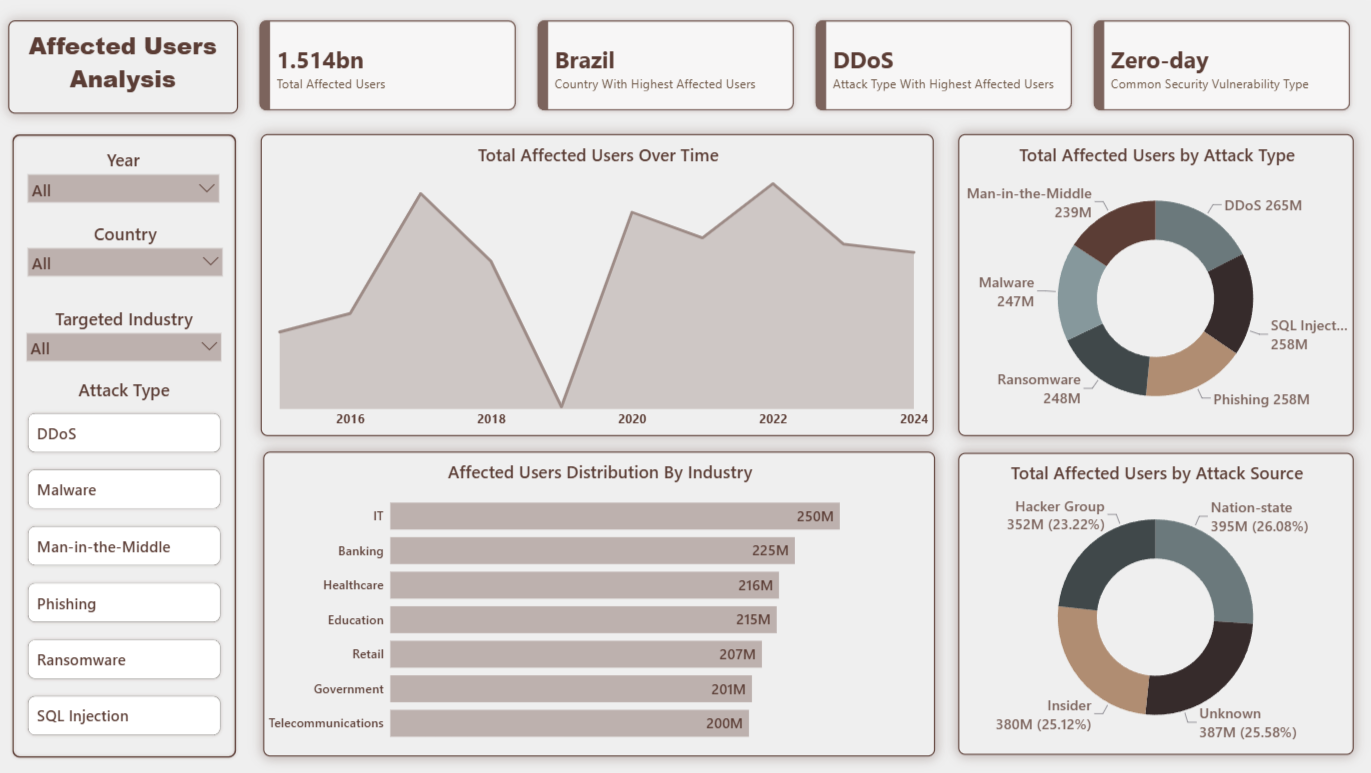

What the dashboard file says about the page in this screenshot:
{"tool":"powerbi","page":{"name":"Affected Users Analysis","canvas":[1920,1080],"ordinal":1},"visuals":[{"type":"cardVisual","fields":{"Data":["All Measures.Total Affected Users","All Measures.Country With Highest Affected Users","All Measures.Most Common Attack Type","All Measures.Common Security Vulnerability Type"]},"box":[338,0,1580.2,182.8],"z":0},{"type":"shape","box":[18.1,182.8,320.3,877.7],"z":0,"group":"g1"},{"type":"lineChart","title":"Total Affected Users Over Time","fields":{"Category":["Dataset.Year"],"Y":["All Measures.Total Affected Users"]},"box":[367.4,186.4,939.2,421.7],"z":1000},{"type":"slicer","title":"Year","fields":{"Values":["Dataset.Year"]},"box":[23.5,195.5,307.6,126.7],"z":1000,"group":"g1"},{"type":"slicer","title":"Country","fields":{"Values":["Dataset.Country"]},"box":[23.5,298.6,313.1,124.9],"z":2000,"group":"g1"},{"type":"barChart","title":"Affected Users Distribution By Industry","fields":{"Y":["All Measures.Total Affected Users"],"Category":["Dataset.Target Industry"]},"box":[371,629.8,937.4,425.3],"z":2000},{"type":"donutChart","fields":{"Category":["Dataset.Attack Type"],"Y":["All Measures.Total Affected Users"]},"box":[1341,186.4,551.9,421.7],"z":3000},{"type":"advancedSlicerVisual","title":"Attack Type","fields":{"Values":["Dataset.Attack Type"]},"box":[21.7,526.6,313.1,521.2],"z":3000,"group":"g1"},{"type":"group","id":"g1","title":"Group 1","box":[18.1,182.8,320.3,877.7],"z":4000},{"type":"slicer","title":"Targeted Industry","fields":{"Values":["Dataset.Target Industry"]},"box":[21.7,416.2,313.1,123.1],"z":4000,"group":"g1"},{"type":"donutChart","fields":{"Y":["All Measures.Total Affected Users"],"Category":["Dataset.Attack Source"]},"box":[1341,631.6,551.9,421.7],"z":5000},{"type":"textbox","box":[16.2,27.7,320.8,130.5],"z":6000}]}

Visuals, with their boxes in screenshot pixels (x1, y1, x2, y2), scaled from the page's 1920x1080 canvas onto the 1371x773 screenshot:
cardVisual - All Measures.Total Affected Users x All Measures.Country With Highest Affected Users: rect(241, 0, 1370, 131)
shape: rect(13, 131, 242, 759)
"Total Affected Users Over Time" lineChart: rect(262, 133, 933, 435)
"Year" slicer: rect(17, 140, 236, 231)
"Country" slicer: rect(17, 214, 240, 303)
"Affected Users Distribution By Industry" barChart: rect(265, 451, 934, 755)
donutChart - Dataset.Attack Type x All Measures.Total Affected Users: rect(958, 133, 1352, 435)
"Attack Type" advancedSlicerVisual: rect(15, 377, 239, 750)
"Group 1" group: rect(13, 131, 242, 759)
"Targeted Industry" slicer: rect(15, 298, 239, 386)
donutChart - All Measures.Total Affected Users x Dataset.Attack Source: rect(958, 452, 1352, 754)
textbox: rect(12, 20, 241, 113)
